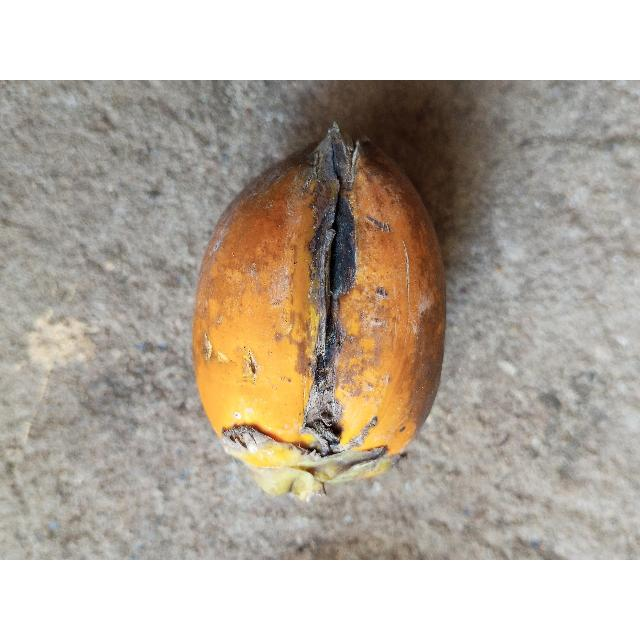damaged: (191, 125, 447, 500)
